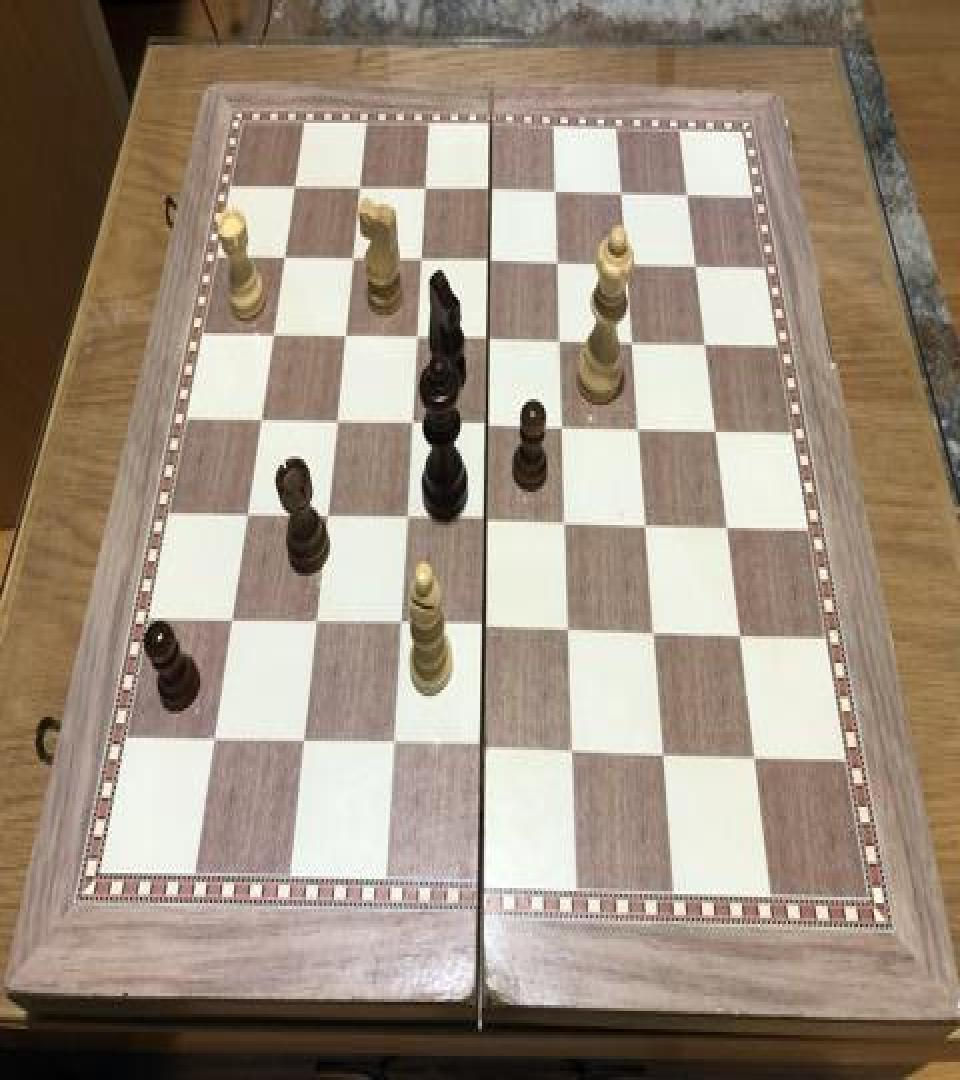xcorner: (472, 610, 496, 647), (381, 727, 405, 764), (673, 180, 697, 216), (608, 178, 632, 214), (542, 177, 566, 213), (477, 176, 501, 212), (412, 174, 436, 210), (282, 171, 306, 207), (681, 250, 705, 286), (613, 249, 637, 285), (545, 248, 569, 284), (476, 246, 500, 282), (408, 244, 432, 280), (340, 243, 364, 279), (272, 242, 296, 278), (619, 327, 643, 363), (547, 326, 571, 362), (475, 324, 499, 360), (404, 321, 428, 357), (332, 320, 356, 356), (261, 318, 285, 354), (701, 416, 725, 452), (550, 411, 574, 447), (474, 410, 498, 446), (399, 406, 423, 442), (324, 405, 348, 441), (249, 404, 273, 440), (712, 510, 736, 546), (632, 508, 656, 544), (552, 507, 576, 543), (473, 504, 497, 540), (394, 502, 418, 538), (314, 500, 338, 536), (235, 498, 259, 534), (724, 618, 748, 654), (640, 615, 664, 651), (556, 614, 580, 650), (388, 608, 412, 644), (304, 606, 328, 642), (220, 603, 244, 639), (739, 738, 763, 774), (649, 735, 673, 771), (559, 732, 583, 768), (470, 730, 494, 766), (292, 724, 316, 760), (203, 722, 227, 758), (347, 173, 371, 208), (691, 329, 715, 364), (625, 413, 649, 448)
